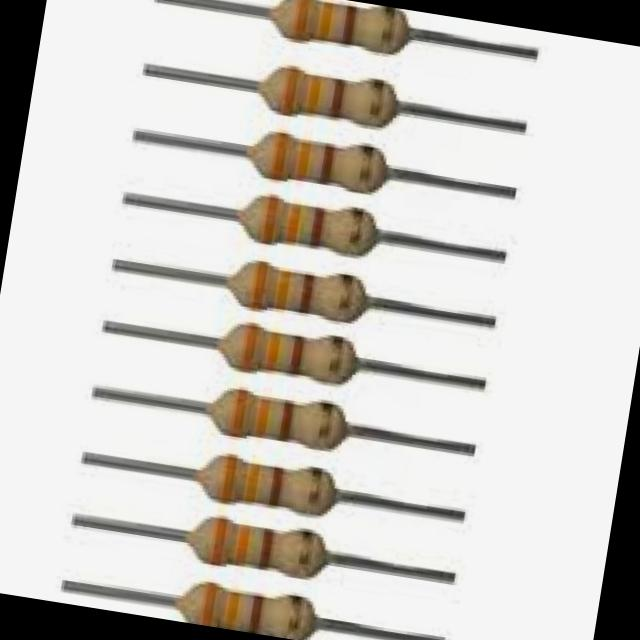Resistor: (203, 325, 360, 384), (183, 516, 328, 579), (224, 261, 370, 323), (245, 132, 389, 194), (194, 454, 338, 515), (234, 196, 380, 256), (206, 390, 350, 450), (259, 66, 399, 127), (175, 582, 317, 640), (269, 0, 410, 54)
brown: (319, 141, 336, 187), (340, 7, 359, 46), (308, 208, 326, 249), (298, 272, 315, 313), (288, 334, 304, 376), (278, 400, 294, 442), (259, 528, 275, 570), (248, 594, 265, 633), (269, 466, 283, 508), (329, 81, 345, 117)
gold: (364, 77, 386, 132), (304, 464, 324, 516), (346, 208, 364, 260), (284, 594, 304, 640), (316, 401, 334, 451), (336, 274, 354, 324), (296, 527, 313, 579), (327, 336, 345, 384), (378, 6, 395, 54)
orange: (259, 193, 279, 246), (240, 324, 261, 374), (232, 388, 250, 438), (292, 0, 312, 44), (250, 262, 268, 310), (283, 66, 300, 116), (274, 268, 292, 314), (222, 454, 238, 504), (199, 584, 218, 626), (210, 518, 227, 564), (233, 524, 251, 567), (272, 133, 288, 180), (284, 204, 302, 244), (253, 395, 270, 436), (244, 464, 261, 504), (222, 594, 240, 630), (317, 0, 333, 40), (296, 138, 311, 179), (264, 334, 280, 372), (307, 76, 322, 112)
